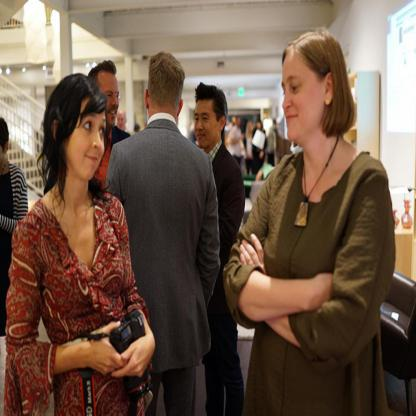face: (281, 61, 317, 143), (70, 102, 105, 181), (96, 71, 121, 128), (193, 102, 216, 149)
